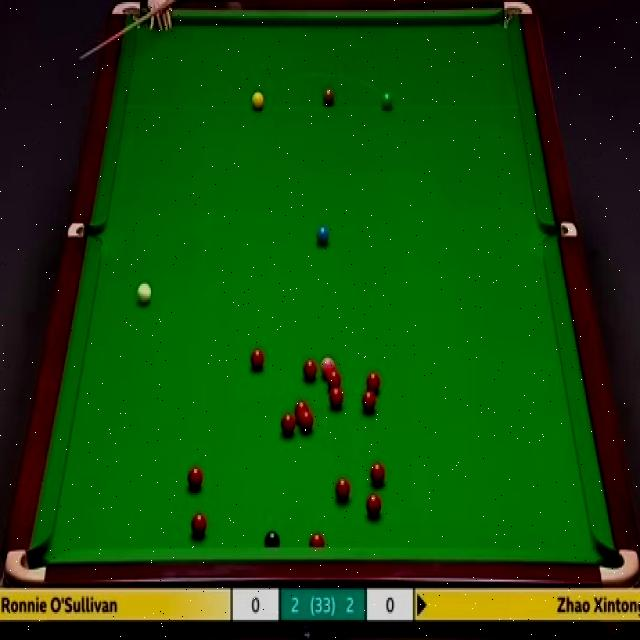black-ball: (264, 530, 280, 549)
blue-ball: (316, 225, 329, 248)
brown-ball: (323, 90, 335, 108)
green-ball: (380, 91, 396, 110)
pink-ball: (319, 354, 336, 372)
red-ball: (191, 512, 208, 540), (334, 475, 350, 502), (187, 464, 203, 490), (366, 491, 382, 517), (280, 411, 296, 437), (249, 348, 266, 370), (298, 410, 314, 433), (362, 390, 377, 414), (366, 370, 381, 393), (308, 530, 326, 549), (328, 387, 343, 409), (370, 462, 384, 485), (302, 358, 316, 379), (326, 370, 341, 386), (293, 400, 310, 414)
white-ball: (138, 280, 152, 305)
yellow-ball: (251, 89, 265, 109)
